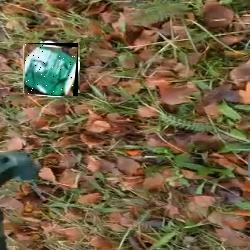metal: (25, 43, 78, 96)
